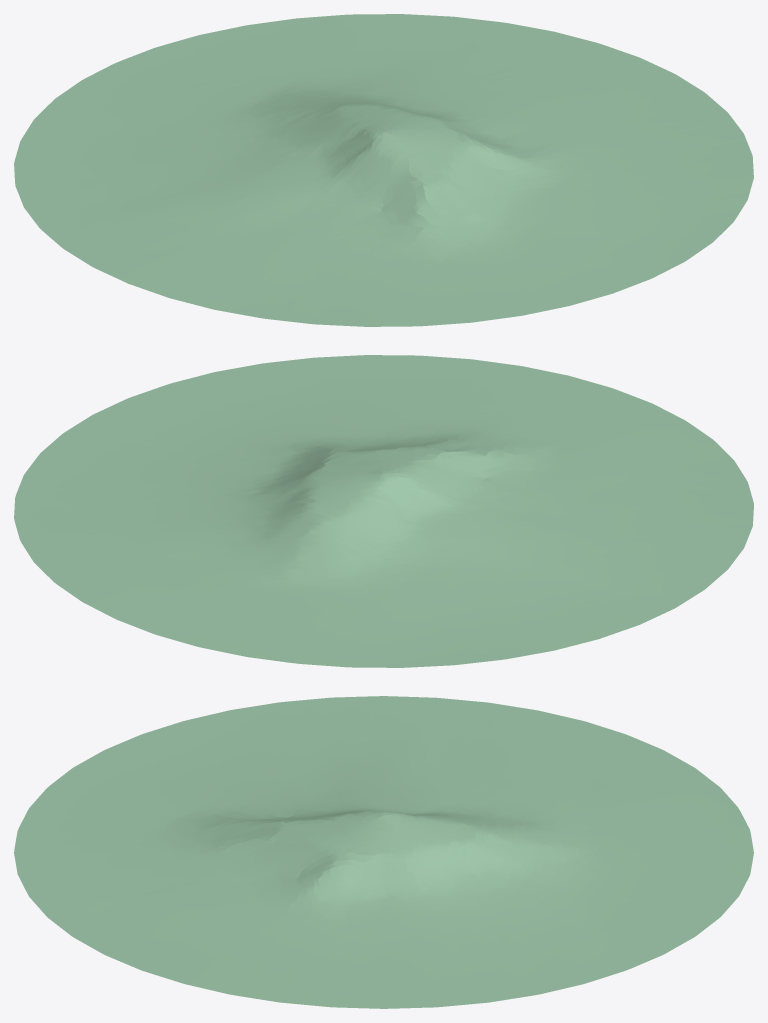
File: island_coral_small_D.fbx
The picture shows the model from 3 angles, top to bottom: view 1: azimuth 30°, elevation 25°; view 2: azimuth 150°, elevation 25°; view 3: azimuth 270°, elevation 25°; orthographic projection.
Parts seen in each view (by area): view 1: island_coral_small_D; view 2: island_coral_small_D; view 3: island_coral_small_D.
Part boxes in pixels (x1=…): island_coral_small_D: x1=14, y1=14, x2=753, y2=326; island_coral_small_D: x1=14, y1=355, x2=753, y2=667; island_coral_small_D: x1=14, y1=696, x2=753, y2=1008.
Bounding box in the file's own units: 6063 × 343 × 6064.
